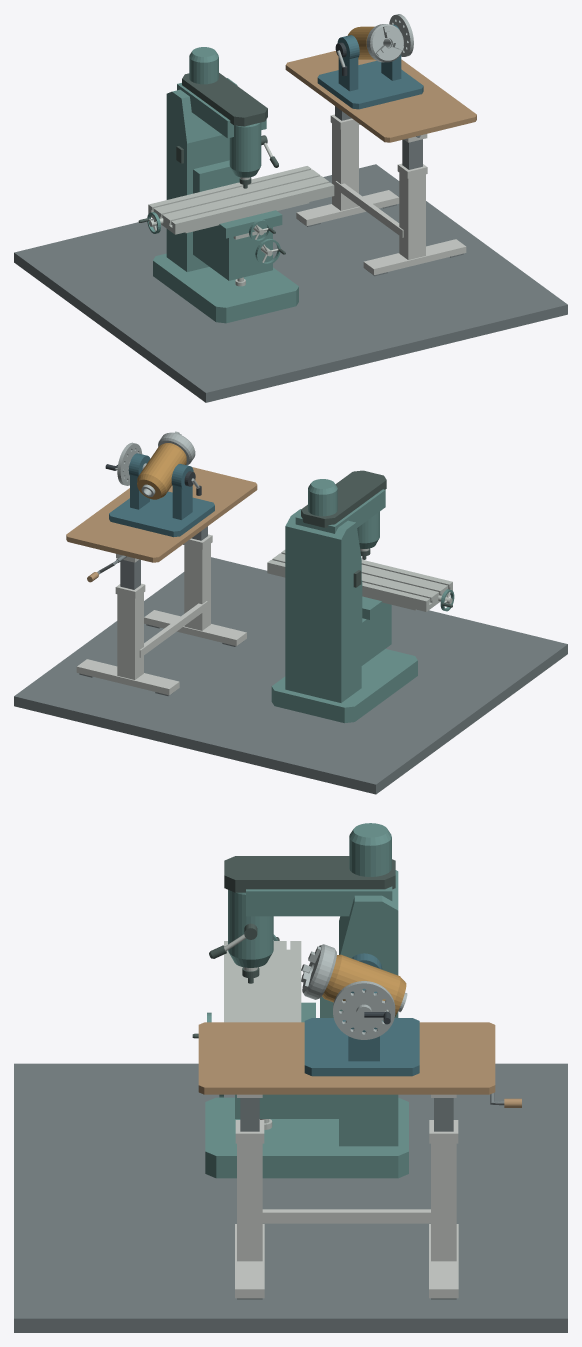
3 renders of one model, top to bottom at view 1: azimuth 30°, elevation 25°; view 2: azimuth 150°, elevation 25°; view 3: azimuth 270°, elevation 25°, orthographic. The views are drawn at different scales.
Parts seen in each view (by area): view 1: SceneOnlyTeachingFloor__SceneOnlyMillPreparationFloor, mill__WholeThreeTSlotLongWorkTable, desk__WholeLevelWritingTop, mill__WholeBroadCastGroundBase, mill__WholeTallTaperedRearColumn, mill__WholeContinuousLiftingKnee, head__WholeChamferedTableBase, mill__WholeUpperDriveCover, desk__WholeOpenUpperOuterColumn_-1, desk__WholeOpenUpperOuterColumn_1, mill__WholeVerticalFrontHead, desk__WholeLongTGroundFoot_-1 (+9 smaller); view 2: SceneOnlyTeachingFloor__SceneOnlyMillPreparationFloor, mill__WholeTallTaperedRearColumn, desk__WholeLevelWritingTop, mill__WholeBroadCastGroundBase, mill__WholeThreeTSlotLongWorkTable, head__WholeChamferedTableBase, desk__WholeOpenUpperOuterColumn_1, mill__WholeUpperDriveCover, desk__WholeOpenUpperOuterColumn_-1, head__WholeTiltedThroughSpindleHousing, desk__WholeLongTGroundFoot_1, mill__WholeContinuousLiftingKnee (+9 smaller); view 3: SceneOnlyTeachingFloor__SceneOnlyMillPreparationFloor, desk__WholeLevelWritingTop, mill__WholeBroadCastGroundBase, mill__WholeTallTaperedRearColumn, mill__WholeThreeTSlotLongWorkTable, head__WholeChamferedTableBase, mill__WholeUpperDriveCover, mill__WholeFixedTopRam, desk__WholeOpenUpperOuterColumn_-1, desk__WholeOpenUpperOuterColumn_1, head__WholePerforatedIndexPlate, desk__WholeLowerRearCrossTie (+10 smaller).
Boxes of the visible parts, x1,y1,x2,y2 form: SceneOnlyTeachingFloor__SceneOnlyMillPreparationFloor: (14, 164, 567, 402); mill__WholeThreeTSlotLongWorkTable: (148, 166, 334, 234); desk__WholeLevelWritingTop: (285, 51, 476, 142); mill__WholeBroadCastGroundBase: (153, 253, 298, 323); mill__WholeTallTaperedRearColumn: (166, 78, 237, 271); mill__WholeContinuousLiftingKnee: (193, 160, 272, 280); head__WholeChamferedTableBase: (317, 61, 423, 109); mill__WholeUpperDriveCover: (182, 73, 267, 126); desk__WholeOpenUpperOuterColumn_-1: (399, 173, 425, 259); desk__WholeOpenUpperOuterColumn_1: (332, 123, 358, 210); mill__WholeVerticalFrontHead: (229, 122, 261, 177); desk__WholeLongTGroundFoot_-1: (363, 239, 466, 275); SceneOnlyTeachingFloor__SceneOnlyMillPreparationFloor: (14, 557, 567, 794); mill__WholeTallTaperedRearColumn: (285, 509, 361, 702); desk__WholeLevelWritingTop: (66, 467, 257, 562); mill__WholeBroadCastGroundBase: (271, 649, 417, 723); mill__WholeThreeTSlotLongWorkTable: (267, 550, 452, 611); head__WholeChamferedTableBase: (109, 491, 214, 537); desk__WholeOpenUpperOuterColumn_1: (117, 593, 143, 679); mill__WholeUpperDriveCover: (301, 470, 386, 527); desk__WholeOpenUpperOuterColumn_-1: (184, 544, 210, 630); head__WholeTiltedThroughSpindleHousing: (137, 443, 186, 499); desk__WholeLongTGroundFoot_1: (76, 659, 179, 695); mill__WholeContinuousLiftingKnee: (361, 580, 391, 665); SceneOnlyTeachingFloor__SceneOnlyMillPreparationFloor: (14, 1063, 567, 1332); desk__WholeLevelWritingTop: (198, 1022, 495, 1094); mill__WholeBroadCastGroundBase: (205, 1097, 408, 1178); mill__WholeTallTaperedRearColumn: (339, 870, 398, 1146); mill__WholeThreeTSlotLongWorkTable: (224, 941, 301, 1022); head__WholeChamferedTableBase: (304, 1018, 419, 1076); mill__WholeUpperDriveCover: (224, 856, 395, 892); mill__WholeFixedTopRam: (246, 886, 392, 916); desk__WholeOpenUpperOuterColumn_-1: (237, 1143, 262, 1261); desk__WholeOpenUpperOuterColumn_1: (431, 1143, 456, 1261); head__WholePerforatedIndexPlate: (333, 981, 395, 1039); desk__WholeLowerRearCrossTie: (262, 1209, 430, 1223).
Bounding box in the file's own units: 3.05 × 1.86 × 2.8.
